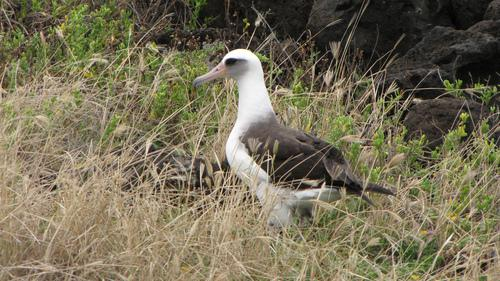002.Laysan_Albatross: (185, 48, 395, 232)
